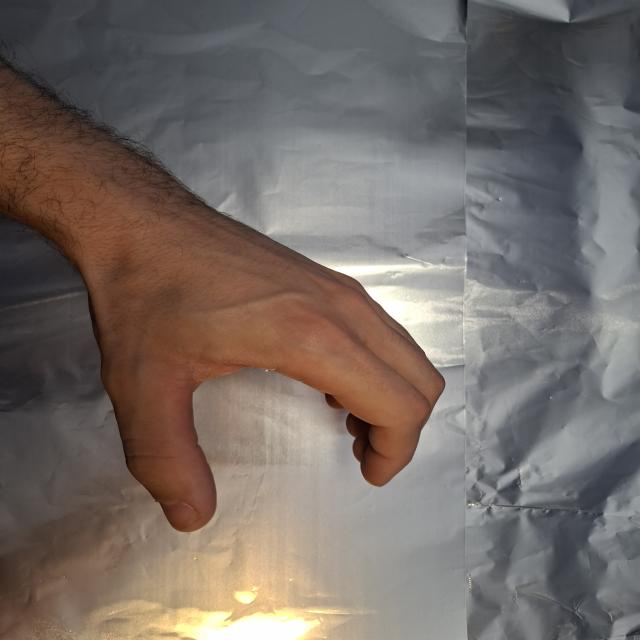glove_off: (58, 183, 450, 534)
